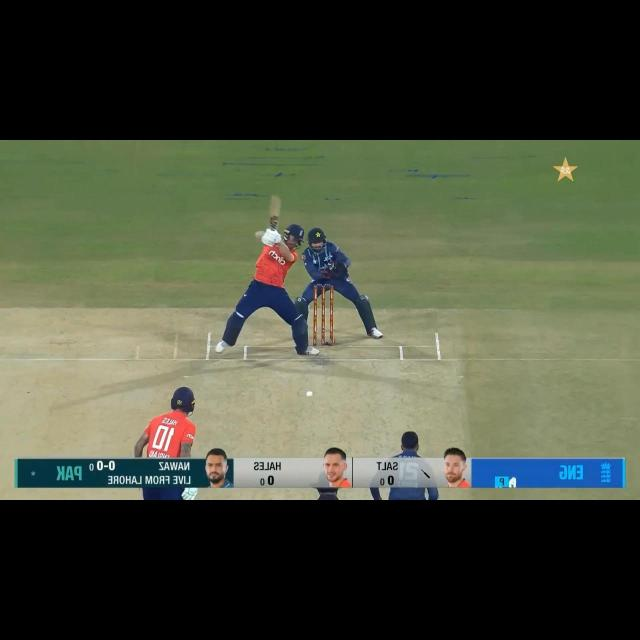bat: (266, 194, 283, 231)
toe: (268, 194, 283, 204)
